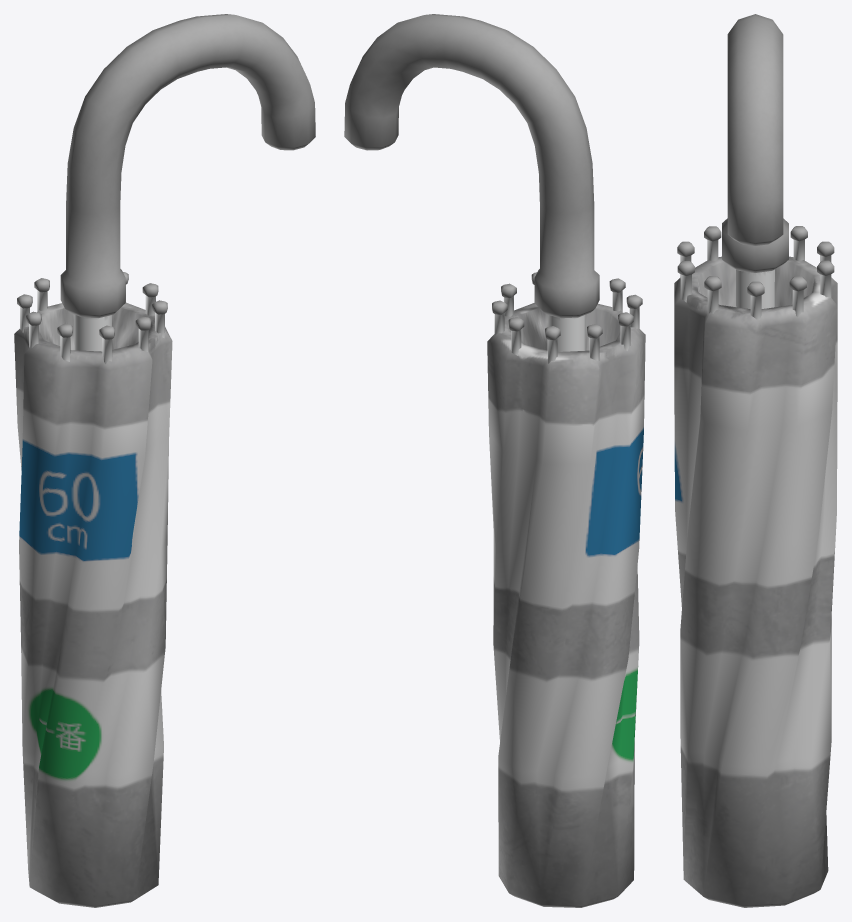
Rendered from SM_Umbrella_Small.fbx.
3 views of the same model, side by side, from view 1: azimuth 30°, elevation 25°; view 2: azimuth 150°, elevation 25°; view 3: azimuth 270°, elevation 25° (orthographic). The views are drawn at different scales.
Parts seen in each view (by area): view 1: SM_Umbrella_Small_LOD0; view 2: SM_Umbrella_Small_LOD0; view 3: SM_Umbrella_Small_LOD0.
Part boxes in pixels (box(x1,y1,x2,y2)): SM_Umbrella_Small_LOD0: box(14, 14, 315, 907); SM_Umbrella_Small_LOD0: box(344, 14, 645, 907); SM_Umbrella_Small_LOD0: box(674, 14, 837, 907).
Bounding box in the file's own units: 12.2 × 5.56 × 34.2.
